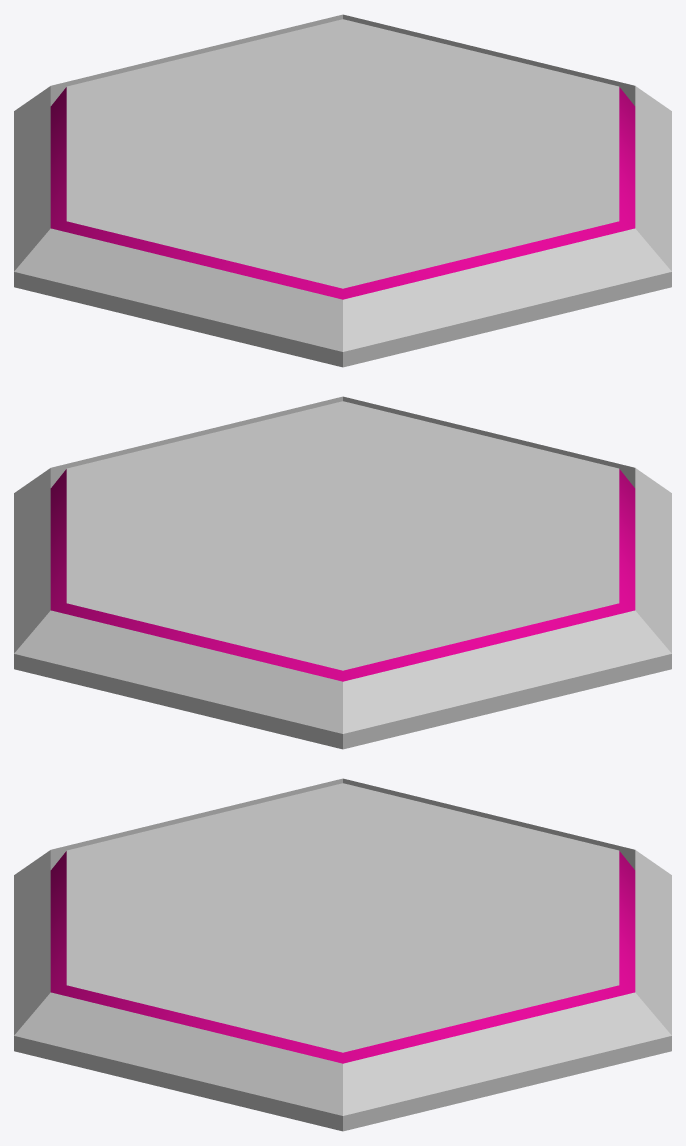
The model's file is Floor_HEX.fbx.
3 views of the same model, one above another, from view 1: azimuth 30°, elevation 25°; view 2: azimuth 150°, elevation 25°; view 3: azimuth 270°, elevation 25° (orthographic).
Visible parts, largest first — view 1: Floor_HEX; view 2: Floor_HEX; view 3: Floor_HEX.
Part boxes in pixels (bbox=[...]): Floor_HEX: bbox=[14, 14, 671, 367]; Floor_HEX: bbox=[14, 396, 671, 749]; Floor_HEX: bbox=[14, 778, 671, 1131].
Size of the model in its own units: 80.95 by 6.23 by 70.11.
